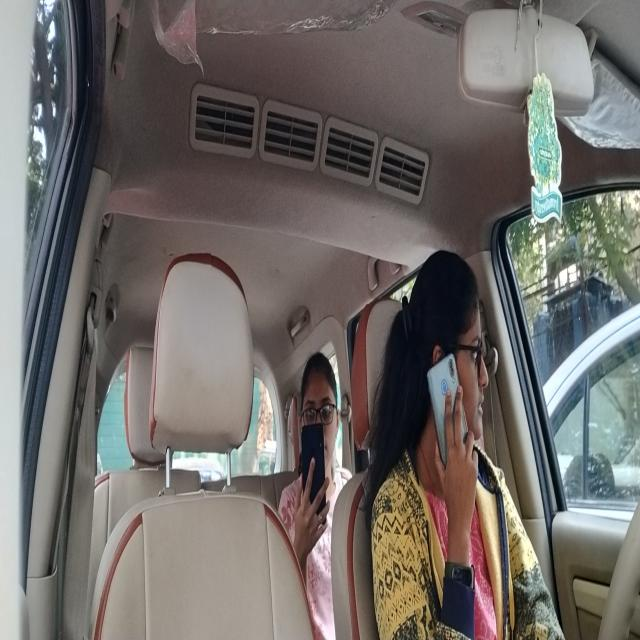mobile: (426, 353, 468, 487)
person: (409, 251, 491, 484), (300, 345, 343, 486)
